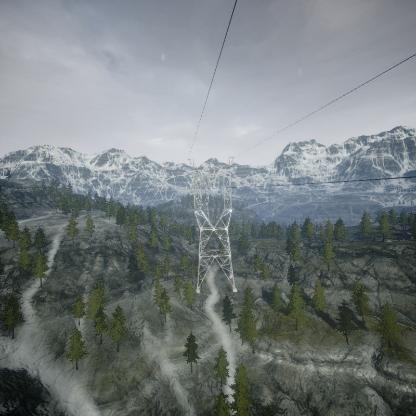tower: (187, 157, 241, 298)
